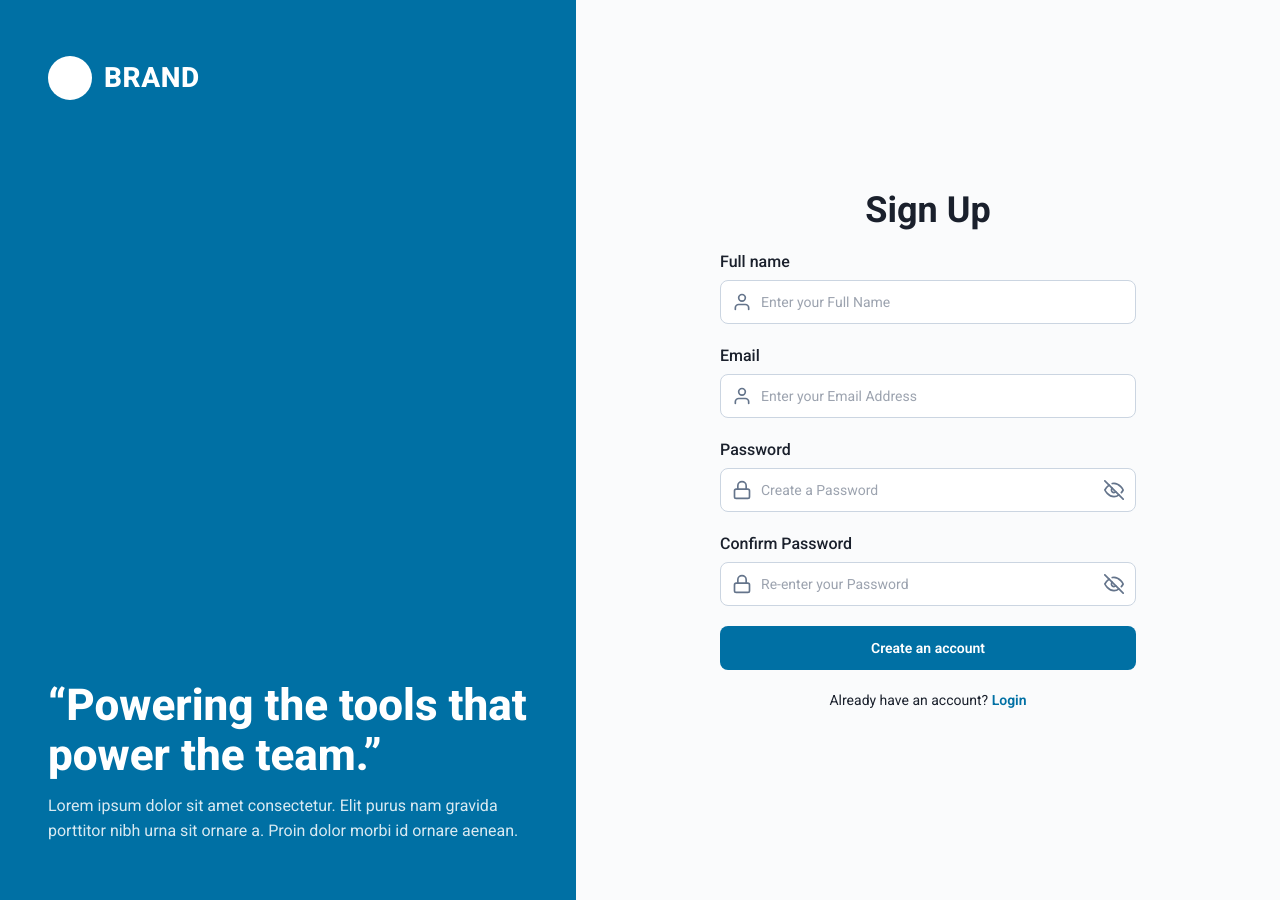
Scenario: RegisterPage password match › shows a mismatch error and does not submit when passwords differ
This screenshot has width=1280, height=900.
Type "Sara John" into the field with test id "signup-name" at (928, 302), box left=720, top=280, right=1136, bottom=324
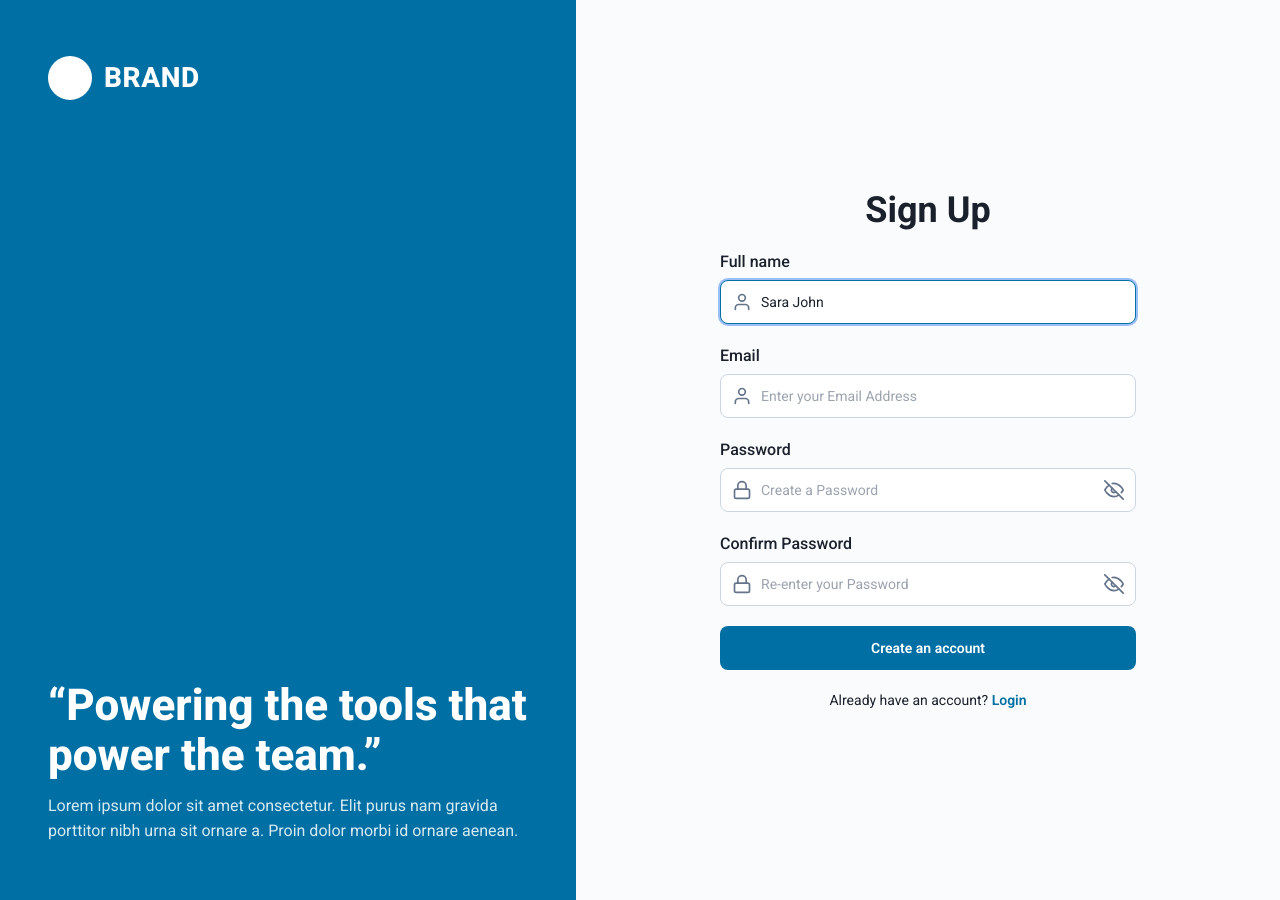
Type "sara@example.com" into the field with test id "signup-email" at (928, 396), box left=720, top=374, right=1136, bottom=418
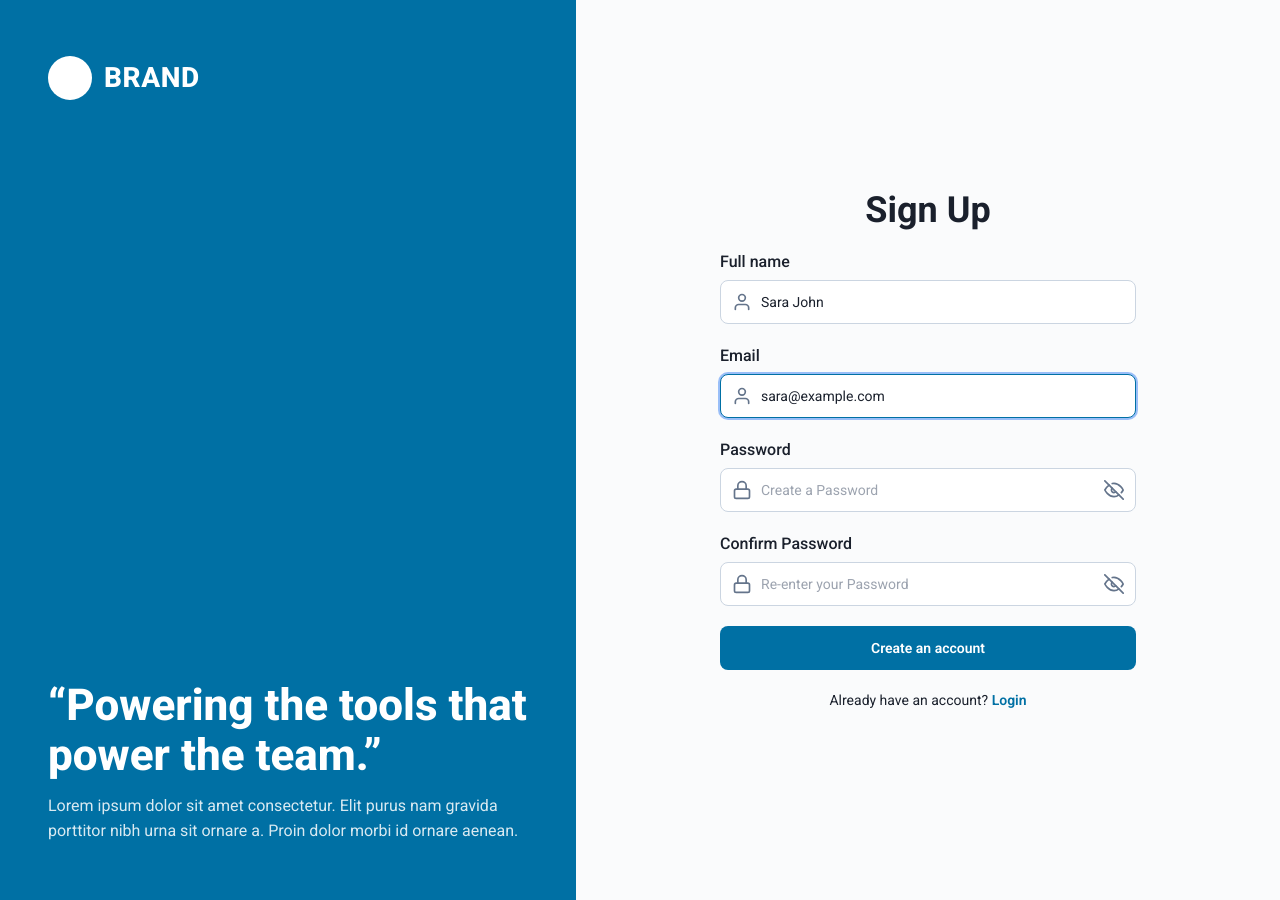
Type "password123" into the password field with test id "signup-password" at (928, 490), box left=720, top=468, right=1136, bottom=512
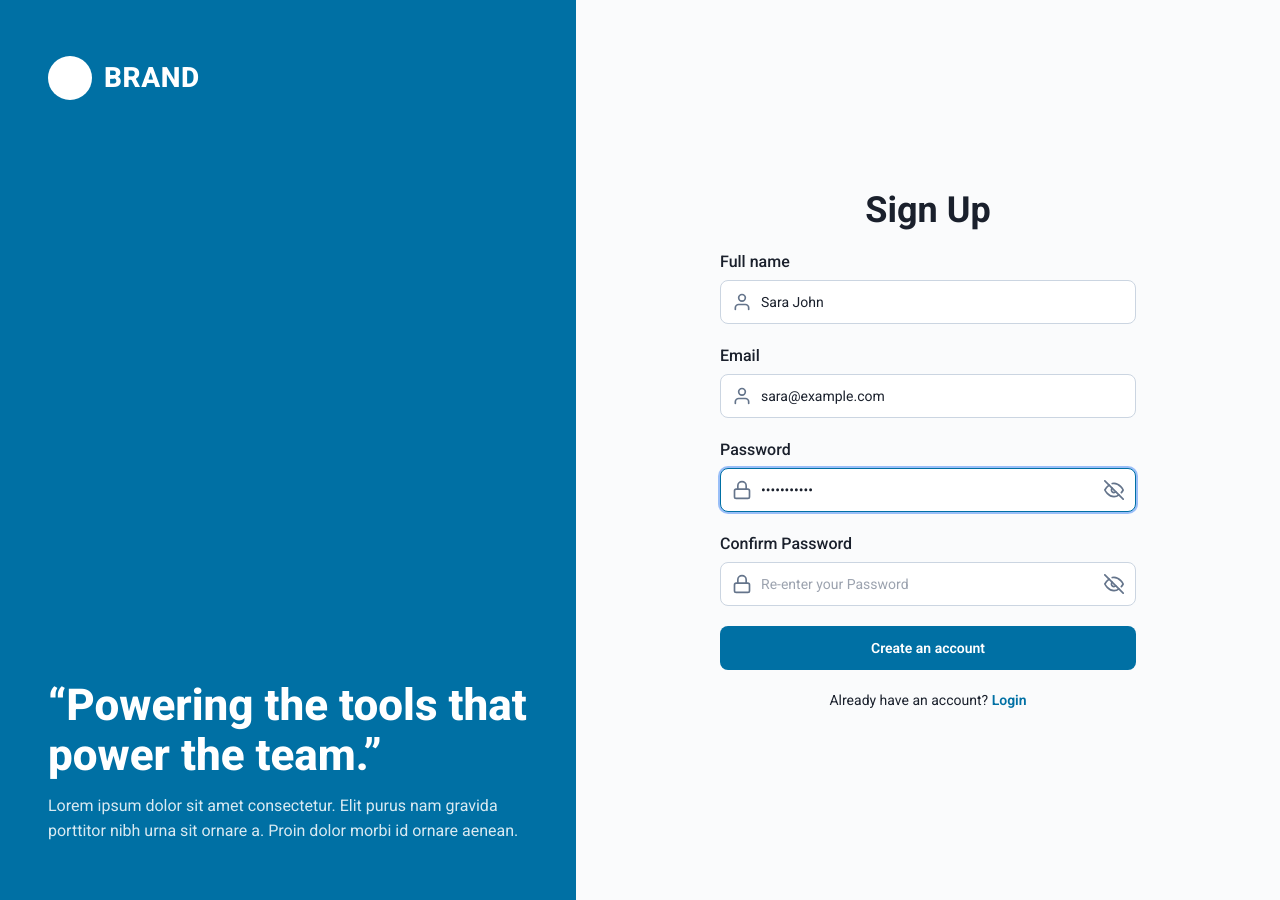
Type "different123" into the password field with test id "signup-confirm-password" at (928, 584), box left=720, top=562, right=1136, bottom=606
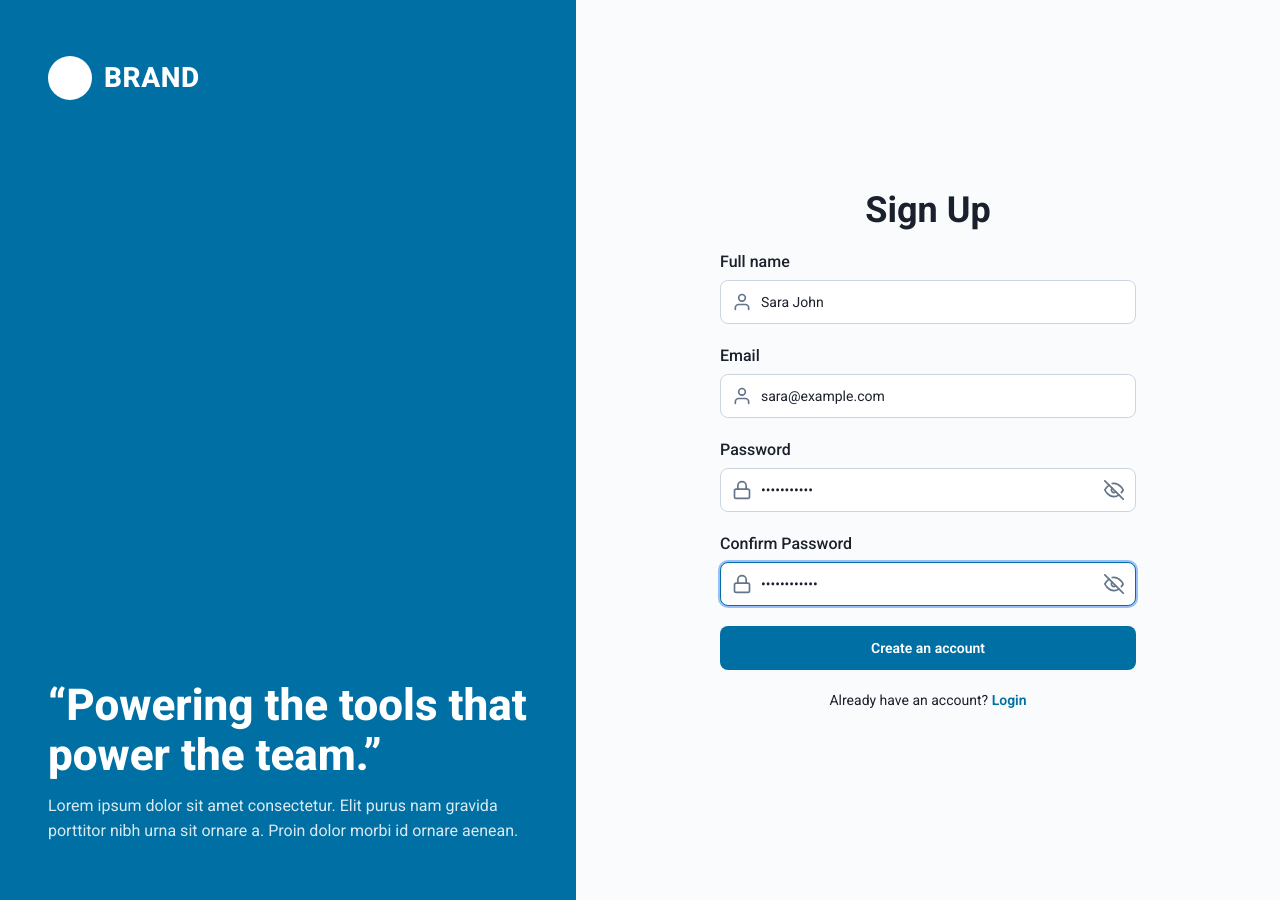
Click the button with test id "signup-submit" at (928, 648), box left=720, top=626, right=1136, bottom=670
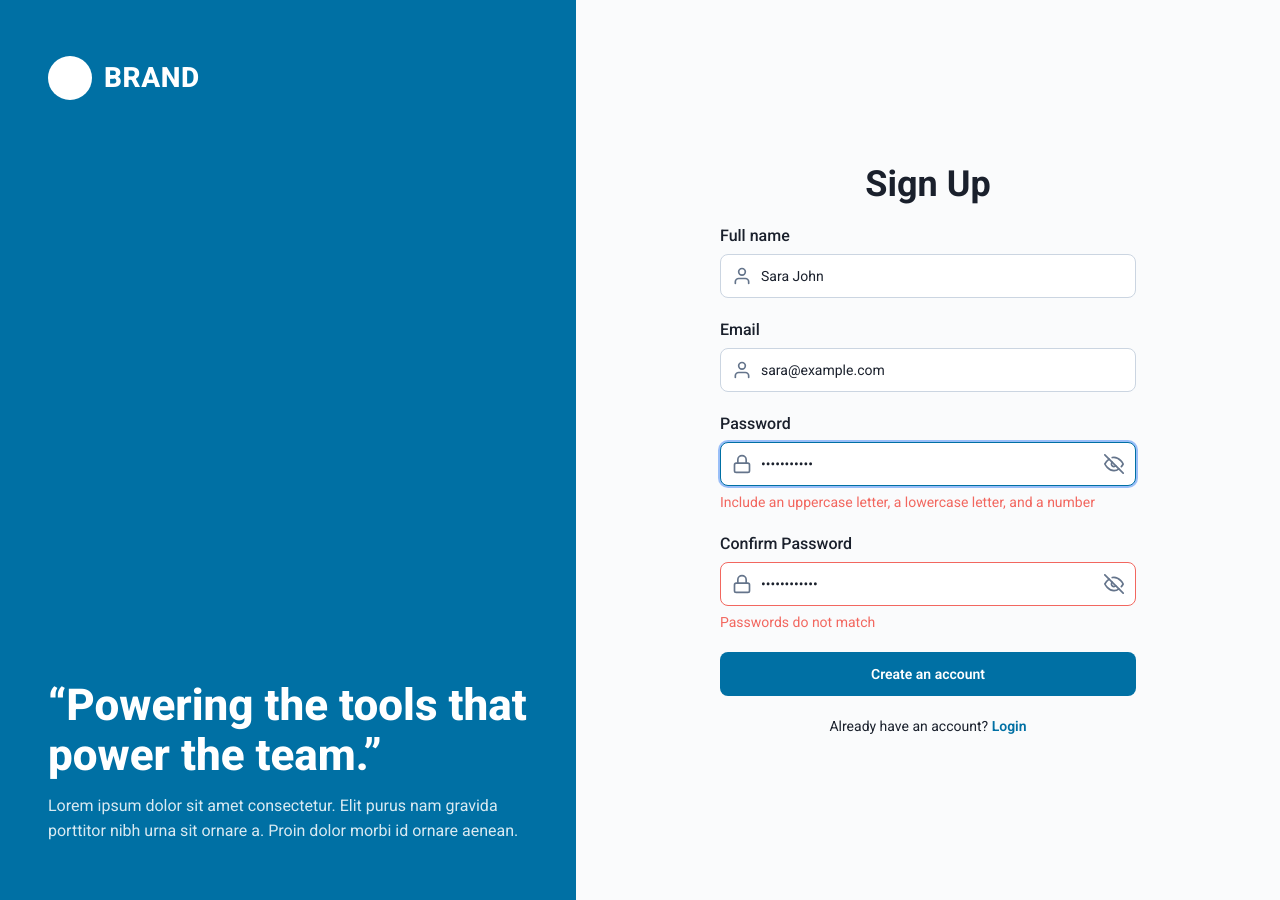
Now the text with test id "signup-confirm-password-error" shows "do not match", box left=720, top=614, right=875, bottom=630
